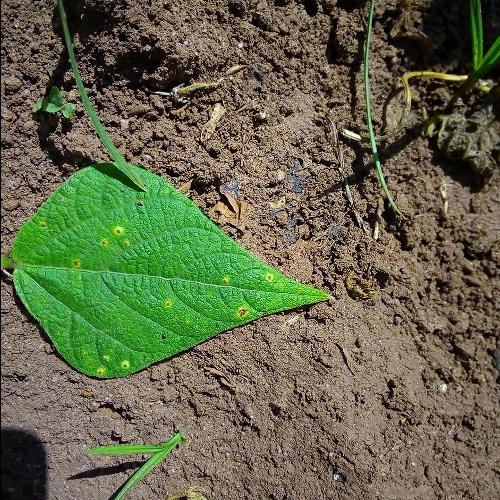hawar: (144, 226, 272, 336)
